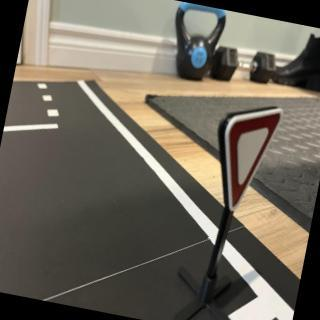sign_yield: (204, 99, 284, 217)
